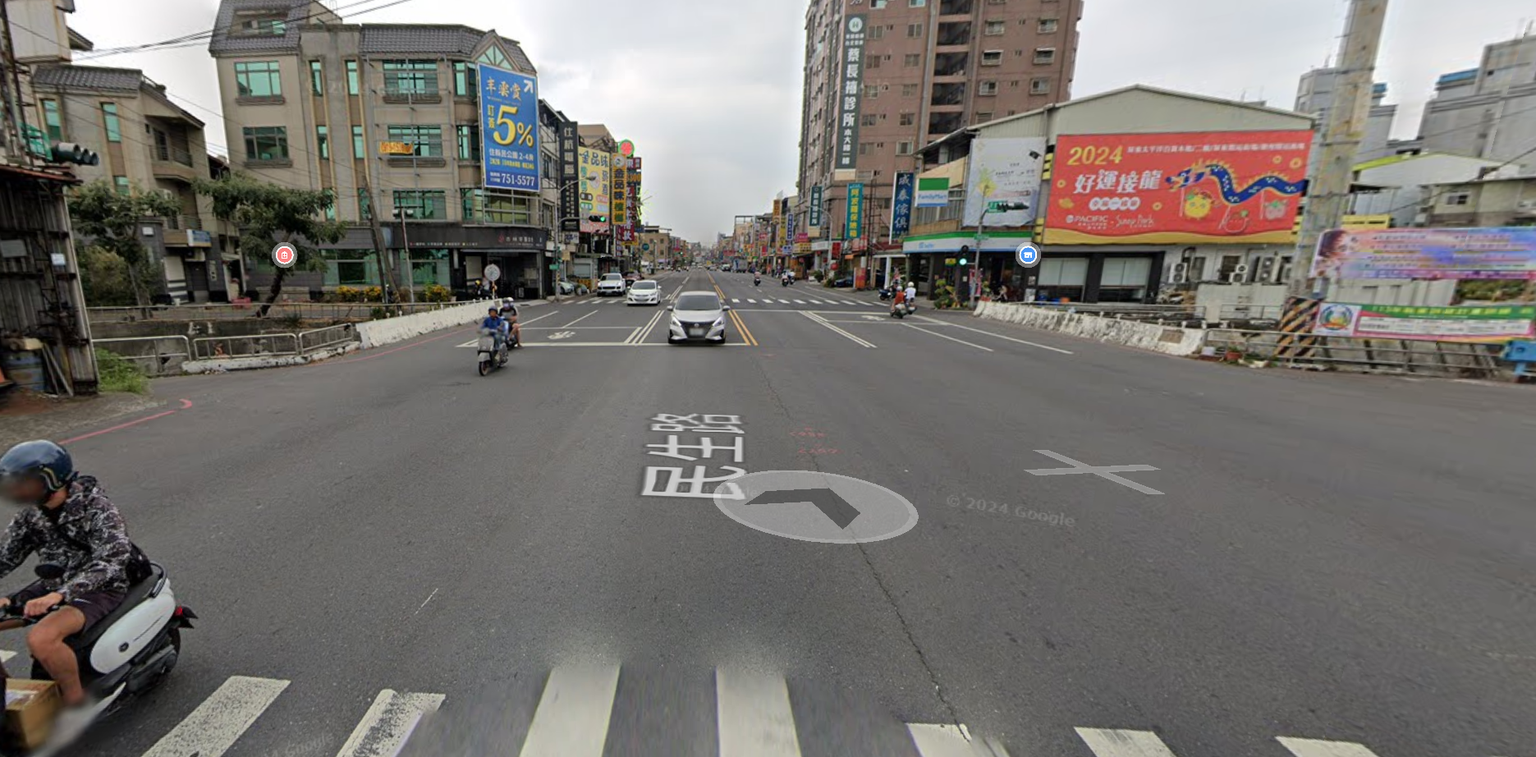green: (589, 214, 608, 223)
